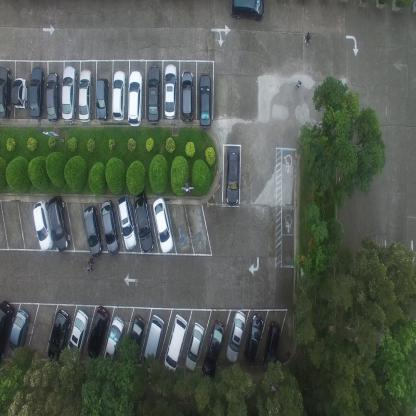car: (200, 320, 225, 380), (163, 312, 187, 372), (141, 312, 165, 370), (86, 304, 110, 362), (133, 188, 154, 252), (47, 307, 71, 363), (48, 195, 71, 252), (116, 194, 138, 252), (152, 197, 174, 254), (66, 307, 88, 363), (102, 315, 125, 368), (124, 312, 146, 366), (224, 310, 246, 364), (32, 199, 54, 252), (7, 308, 29, 360), (101, 198, 120, 256), (242, 314, 263, 366), (262, 322, 282, 375), (84, 204, 104, 257), (184, 322, 204, 372), (0, 299, 15, 362), (29, 65, 46, 120), (225, 145, 240, 207), (61, 64, 77, 122), (127, 69, 143, 126), (163, 63, 178, 121), (146, 64, 160, 126), (198, 73, 213, 130), (78, 67, 93, 123), (230, 0, 265, 23), (46, 70, 61, 121), (180, 70, 194, 124), (112, 69, 126, 123), (95, 76, 110, 122), (0, 64, 12, 121), (12, 76, 28, 110)
